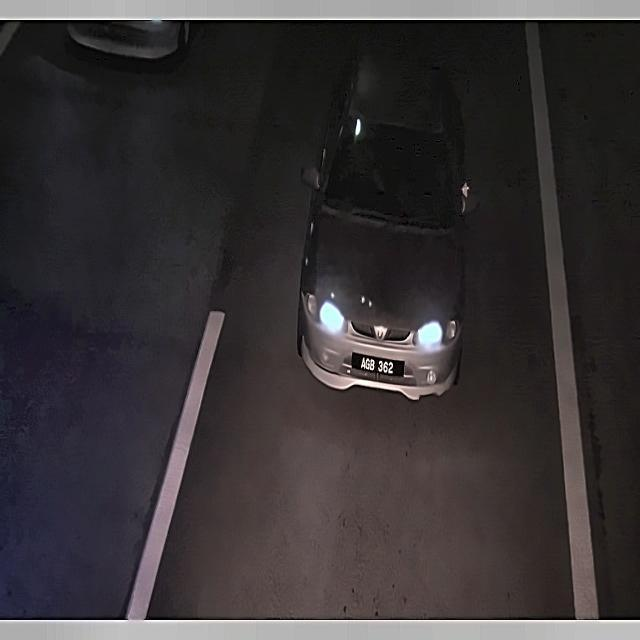car: (348, 343, 410, 384)
